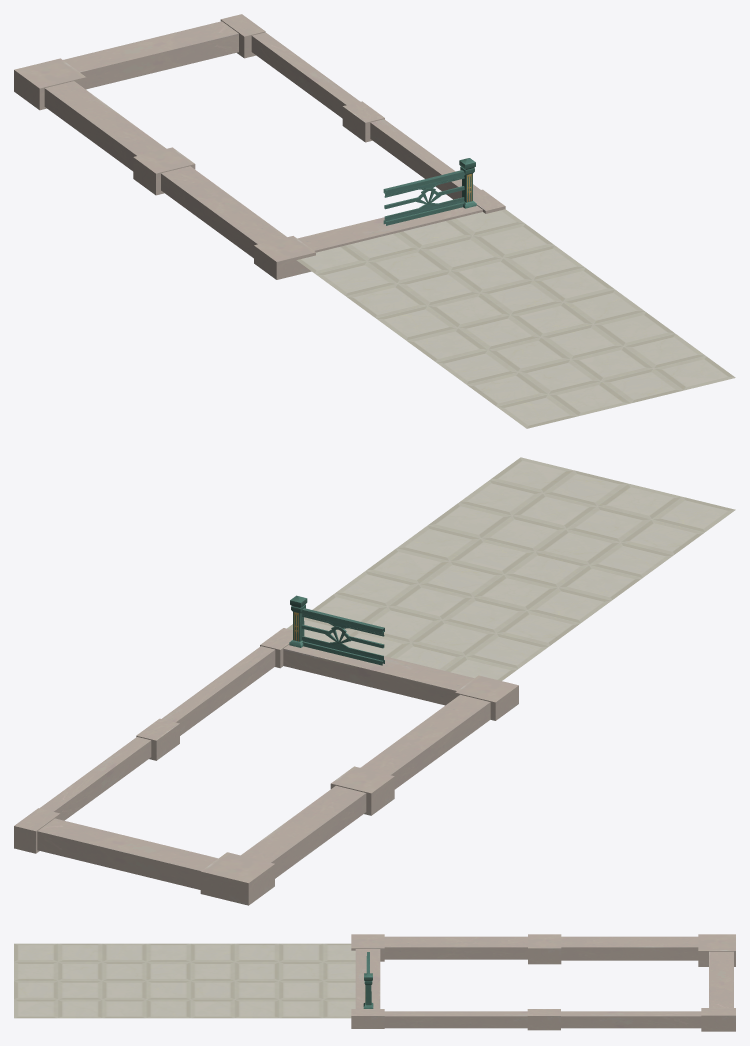
The model's file is Homeworld_Interior_Fd_Room_O_Floor_01_Vo.fbx.
The picture shows the model from 3 angles, top to bottom: view 1: azimuth 30°, elevation 25°; view 2: azimuth 150°, elevation 25°; view 3: azimuth 270°, elevation 25°; orthographic projection. The views are drawn at different scales.
Visible parts, largest first — view 1: Homeworld_Interior_Fd_Room_O_Floor_01_Vo; view 2: Homeworld_Interior_Fd_Room_O_Floor_01_Vo; view 3: Homeworld_Interior_Fd_Room_O_Floor_01_Vo.
Part boxes in pixels (left/top/right/bottom): Homeworld_Interior_Fd_Room_O_Floor_01_Vo: left=14, top=14, right=735, bottom=428; Homeworld_Interior_Fd_Room_O_Floor_01_Vo: left=14, top=457, right=735, bottom=905; Homeworld_Interior_Fd_Room_O_Floor_01_Vo: left=14, top=934, right=735, bottom=1031.
Size of the model in its own units: 5.47 by 1.53 by 20.42.
